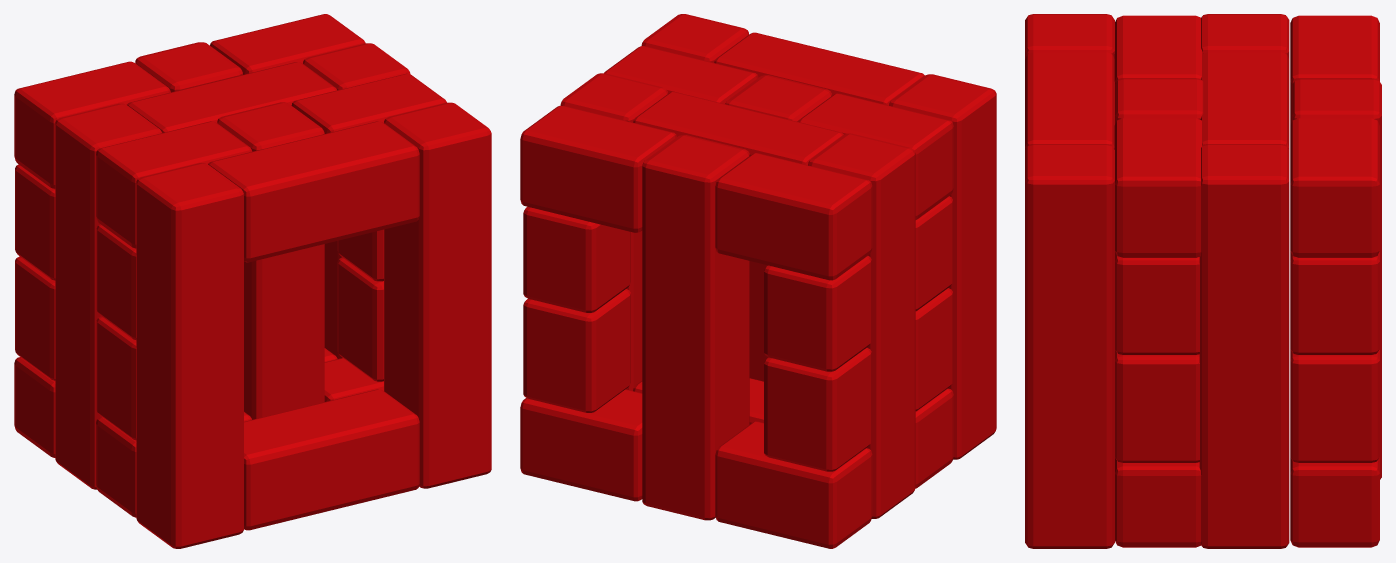
The model's file is BrickInTheWall.fbx.
3 views of the same model, side by side, from view 1: azimuth 30°, elevation 25°; view 2: azimuth 150°, elevation 25°; view 3: azimuth 270°, elevation 25° (orthographic). The views are drawn at different scales.
Visible parts, largest first — view 1: Cube.010; view 2: Cube.010; view 3: Cube.010.
Boxes of the visible parts, box(x1,y1,x2,y2) form: Cube.010: box(14, 14, 491, 548); Cube.010: box(520, 14, 996, 548); Cube.010: box(1025, 14, 1381, 548).
Size of the model in its own units: 886 by 915 by 795.
